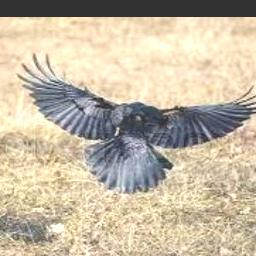Crow: (14, 52, 256, 193)
